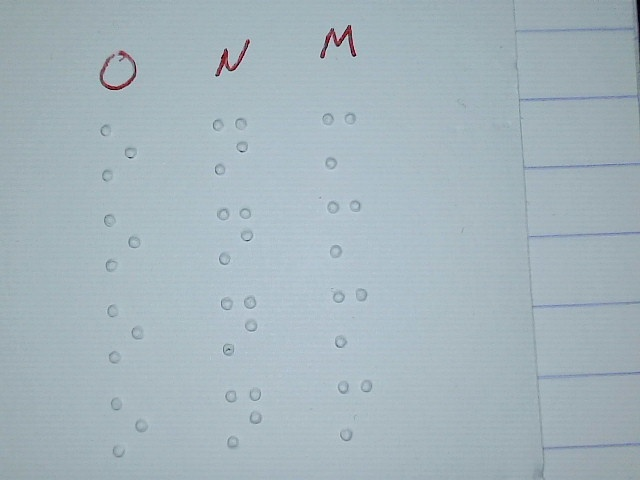M: (320, 108, 358, 170), (325, 196, 363, 258), (331, 286, 369, 348), (336, 378, 374, 440)
N: (210, 114, 250, 177), (215, 203, 255, 266), (219, 293, 259, 356), (223, 385, 263, 448)
O: (109, 395, 150, 457), (99, 122, 139, 182), (102, 212, 142, 272), (105, 303, 145, 363)
